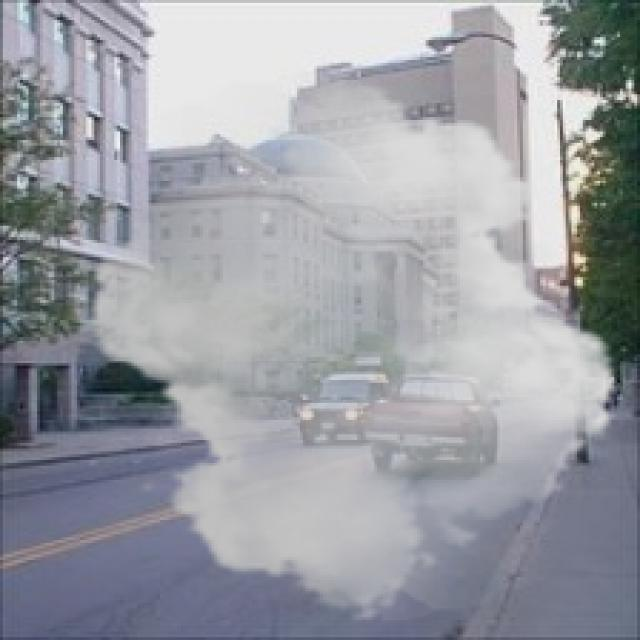smoke: (69, 71, 637, 623)
